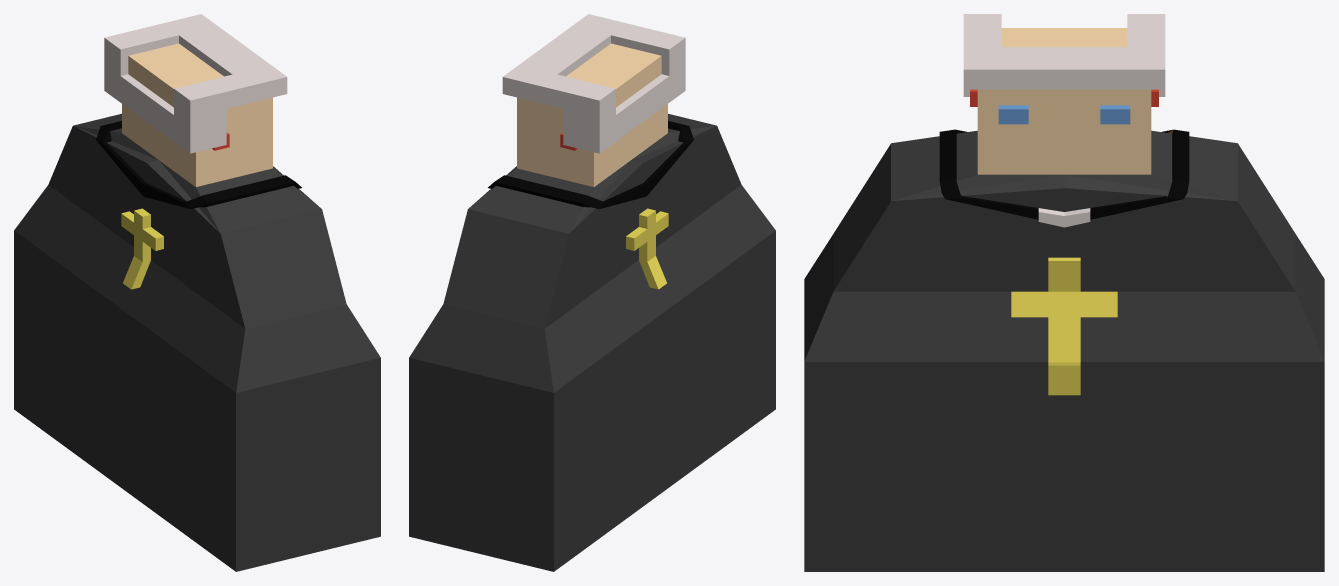
File: esquivar-cura.fbx
3 views of the same model, side by side, from view 1: azimuth 30°, elevation 25°; view 2: azimuth 150°, elevation 25°; view 3: azimuth 270°, elevation 25° (orthographic). The views are drawn at different scales.
Visible parts, largest first — view 1: Component_1_1, Component_1_2; view 2: Component_1_2, Component_1_1; view 3: Component_1_1, Component_1_2.
Boxes of the visible parts, x1,y1,x2,y2 form: Component_1_1: (125, 45, 380, 571); Component_1_2: (14, 14, 243, 490); Component_1_2: (409, 45, 664, 571); Component_1_1: (546, 14, 775, 490); Component_1_1: (804, 14, 1064, 571); Component_1_2: (1064, 14, 1324, 571).
Bounding box in the file's own units: 62.48 × 165 × 159.
